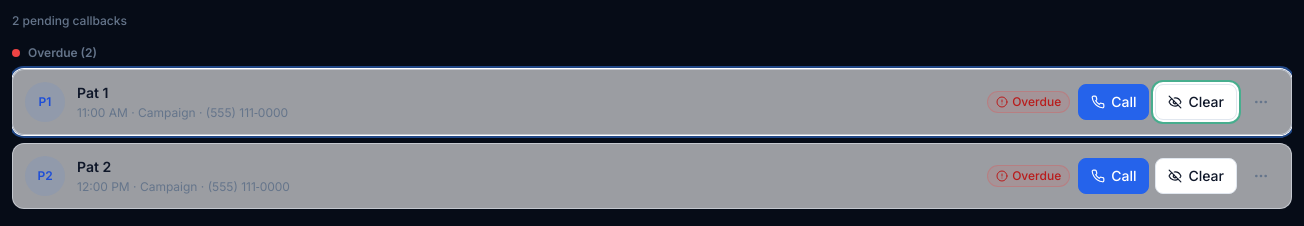
Test: Callbacks widget — Clear › moves keyboard focus to the next row's primary action when the cleared row leaves
Click the button with aria-label "Clear callback for Pat 1" at [1196, 102], box [1156, 84, 1237, 120]
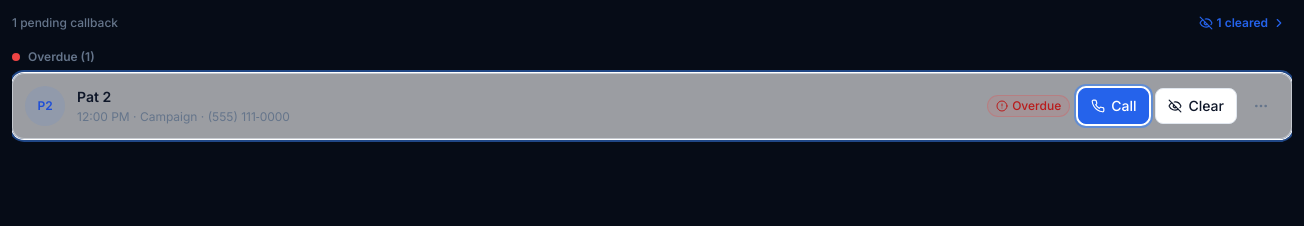
Now the text "Pat 1" is gone
